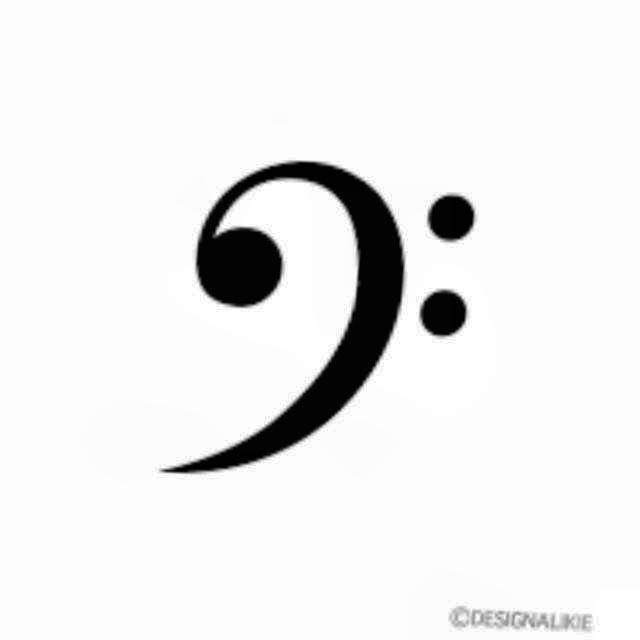Bass-clef: (145, 148, 503, 492)
